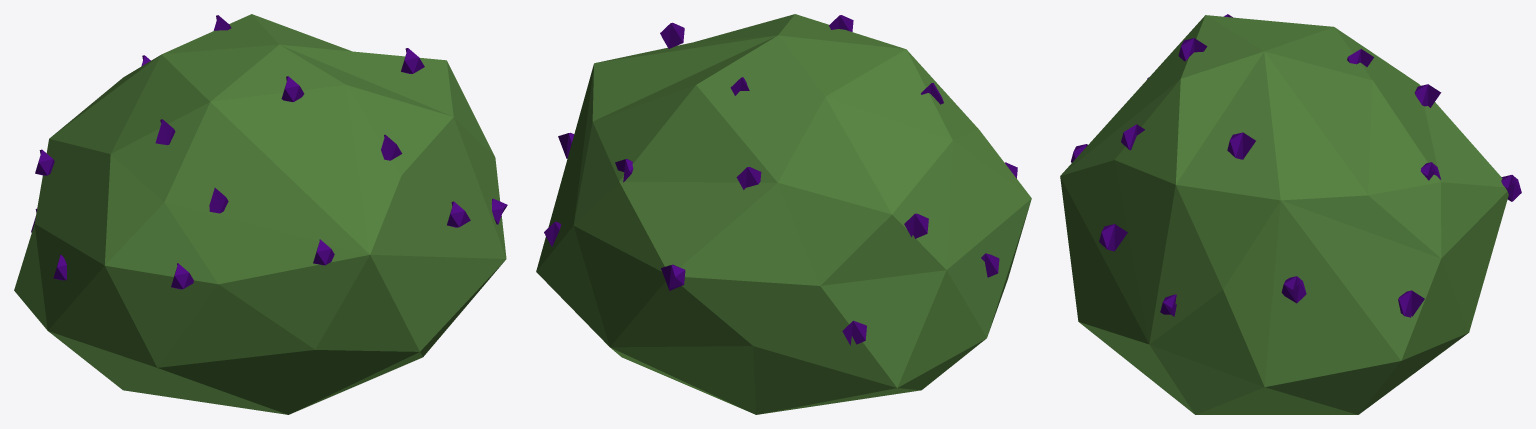
File: bush_05.glb
3 renders of one model, left to right at view 1: azimuth 30°, elevation 25°; view 2: azimuth 150°, elevation 25°; view 3: azimuth 270°, elevation 25°, orthographic.
Visible parts, largest first — view 1: Object_78, Object_79; view 2: Object_78, Object_79; view 3: Object_78, Object_79.
Boxes of the visible parts, x1,y1,x2,y2 form: Object_78: (14, 14, 506, 414); Object_79: (31, 15, 507, 289); Object_78: (536, 14, 1031, 414); Object_79: (544, 15, 1017, 345); Object_78: (1060, 15, 1508, 414); Object_79: (1071, 14, 1521, 317).
Size of the model in its own units: 2.55 by 1.76 by 2.36.
